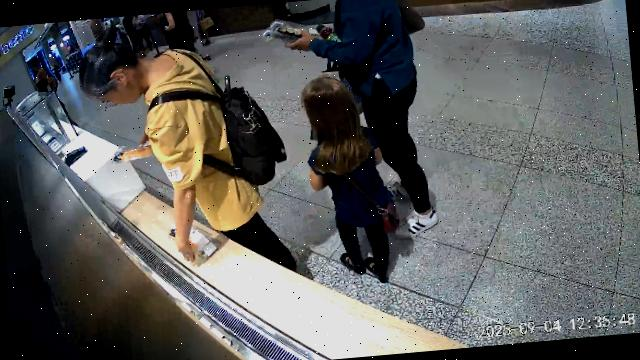sushi-box: (189, 226, 223, 267), (271, 18, 322, 39), (112, 144, 155, 165), (262, 27, 302, 46), (170, 225, 177, 241)
